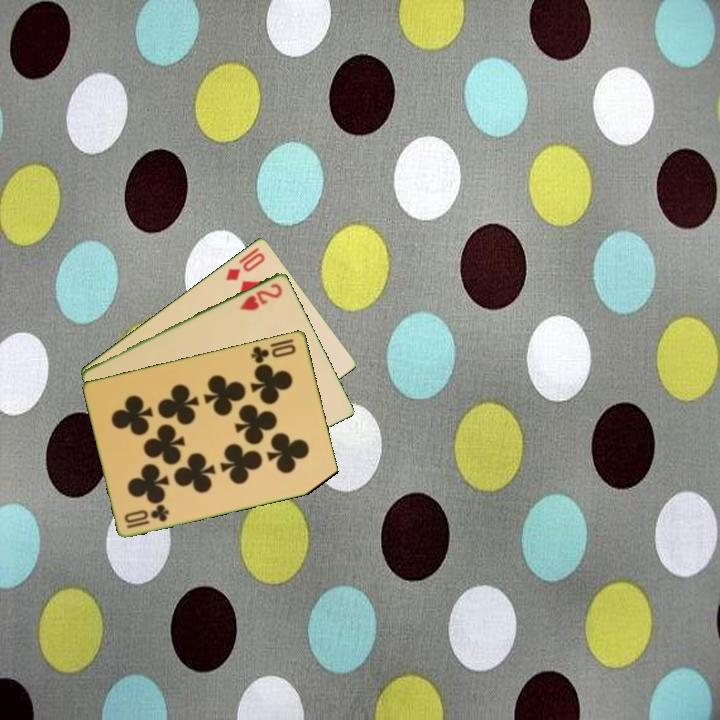10c: (121, 501, 172, 531), (247, 340, 299, 366)
10d: (222, 248, 268, 283)
2h: (236, 279, 286, 313)
